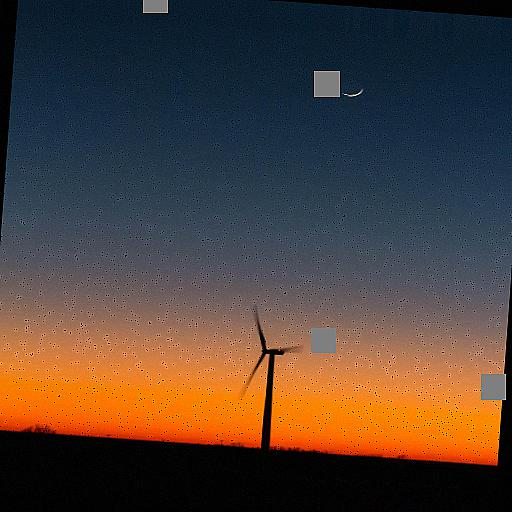wind turbine: (238, 304, 304, 450)
